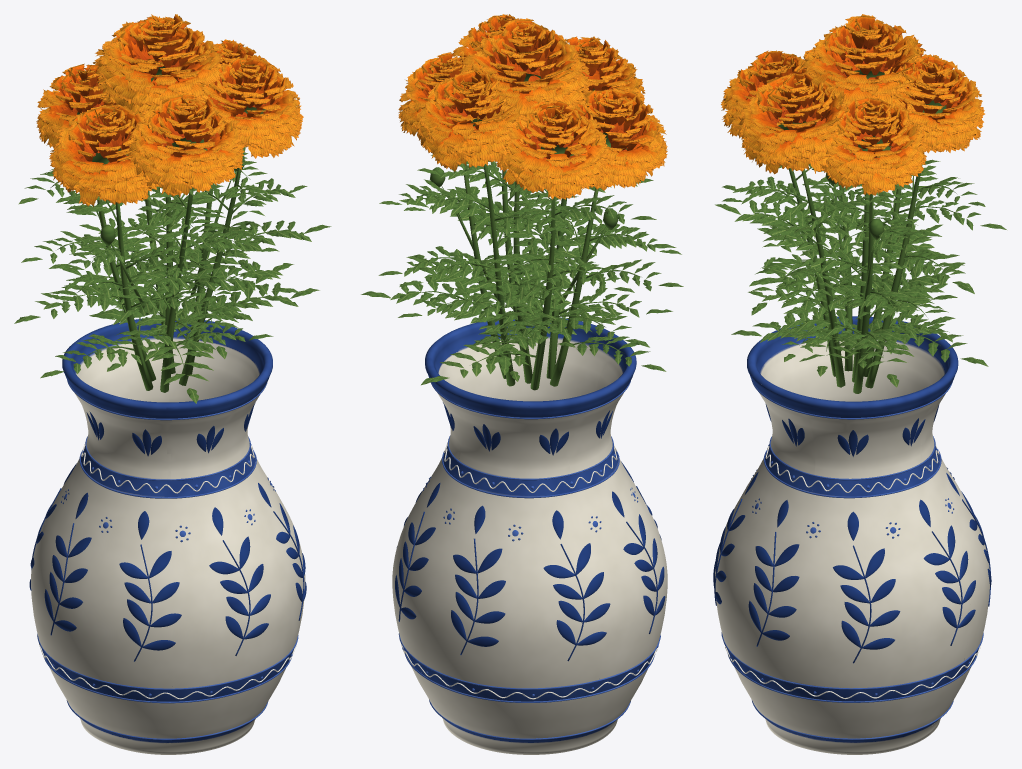
The model's file is jarron_talavera.gltf.
3 views of the same model, side by side, from view 1: azimuth 30°, elevation 25°; view 2: azimuth 150°, elevation 25°; view 3: azimuth 270°, elevation 25° (orthographic).
Visible parts, largest first — view 1: jarron_talavera_optimizado; view 2: jarron_talavera_optimizado; view 3: jarron_talavera_optimizado.
Part boxes in pixels (left/top/right/bottom): jarron_talavera_optimizado: left=14, top=14, right=331, bottom=754; jarron_talavera_optimizado: left=361, top=14, right=683, bottom=754; jarron_talavera_optimizado: left=713, top=14, right=1006, bottom=754.
Bounding box in the file's own units: 0.255 × 0.5919 × 0.2256.
Materials: 2 (2 with a texture image).
